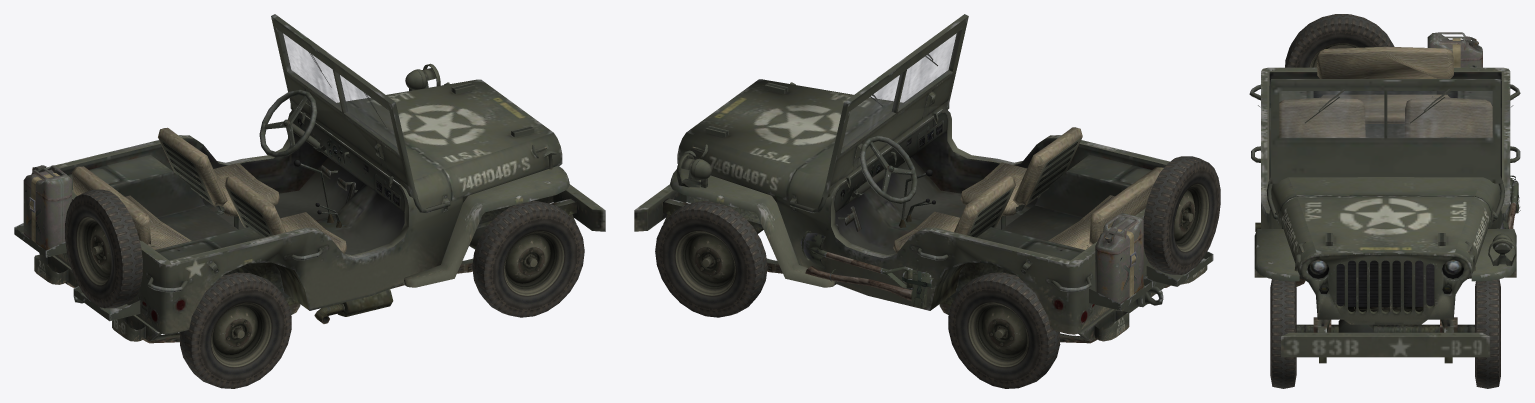
3 renders of one model, left to right at view 1: azimuth 30°, elevation 25°; view 2: azimuth 150°, elevation 25°; view 3: azimuth 270°, elevation 25°, orthographic. The views are drawn at different scales.
Parts seen in each view (by area): view 1: body, TireFL1, TireFL_2, parreBrise, Glass, Can, banquette_arriere, Drive, meshchassis; view 2: body, TireFL1, TireFL_2, parreBrise, Glass, Can, banquette_arriere, Drive, meshchassis; view 3: body, parreBrise, Glass, banquette_arriere, TireFL1, Plan, TireFL_2, meshchassis, Can, Capsule.
Part boxes in pixels (left/top/right/bottom): body: left=14, top=63, right=605, bottom=341; TireFL1: left=180, top=201, right=584, bottom=388; TireFL_2: left=65, top=189, right=142, bottom=308; parreBrise: left=271, top=14, right=450, bottom=213; Glass: left=281, top=32, right=397, bottom=149; Can: left=23, top=165, right=71, bottom=250; banquette_arriere: left=71, top=166, right=191, bottom=249; Drive: left=259, top=89, right=317, bottom=157; meshchassis: left=67, top=119, right=576, bottom=343; body: left=634, top=79, right=1213, bottom=341; TireFL1: left=655, top=201, right=1060, bottom=388; TireFL_2: left=1143, top=156, right=1220, bottom=274; parreBrise: left=789, top=14, right=968, bottom=213; Glass: left=842, top=32, right=958, bottom=149; Can: left=1095, top=213, right=1143, bottom=303; banquette_arriere: left=1048, top=167, right=1163, bottom=249; Drive: left=859, top=135, right=917, bottom=203; meshchassis: left=663, top=165, right=1170, bottom=343; body: left=1249, top=67, right=1520, bottom=361; parreBrise: left=1266, top=79, right=1504, bottom=219; Glass: left=1281, top=91, right=1492, bottom=137; banquette_arriere: left=1316, top=46, right=1453, bottom=123; TireFL1: left=1270, top=279, right=1500, bottom=388; Plan: left=1336, top=260, right=1434, bottom=306; TireFL_2: left=1285, top=14, right=1394, bottom=67; meshchassis: left=1296, top=317, right=1474, bottom=363; Can: left=1427, top=32, right=1482, bottom=67; Capsule: left=1336, top=263, right=1434, bottom=313.
Bounding box in the file's own units: 3.36 × 1.66 × 1.71.
Materials: 15 (15 with a texture image).
